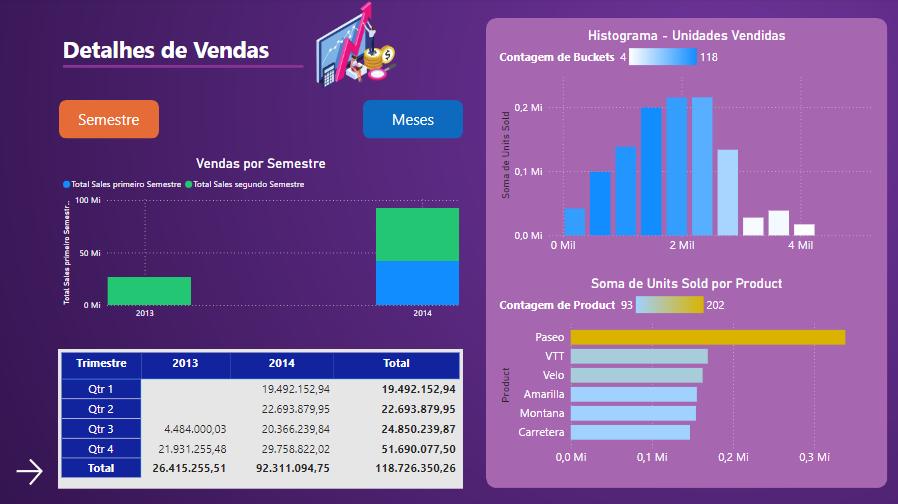

Layout of this report page (visuals, bound fields, positions):
{"tool":"powerbi","page":{"name":"Detalhes","canvas":[1280,720],"ordinal":2},"visuals":[{"type":"group","id":"g1","title":"Layout","box":[0,0,86,719.9],"z":0},{"type":"shape","box":[0,0,86,719.9],"z":0,"group":"g1"},{"type":"shape","box":[692.1,29.1,569.1,666.5],"z":0,"group":"g6"},{"type":"group","id":"g2","title":"Title report","box":[87.2,39.3,365.7,114.5],"z":0,"group":"g3"},{"type":"shape","box":[92.8,39.3,340.7,114.4],"z":0,"group":"g2"},{"type":"actionButton","box":[87.2,145.3,141.8,54.7],"z":0,"group":"g7"},{"type":"actionButton","box":[517.9,145.3,141.8,54.7],"z":0,"group":"g5"},{"type":"columnChart","title":"Vendas por Semestre","fields":{"Y":["financials.Total Sales primeiro Semestre","financials.Total Sales segundo Semestre"],"Category":["financials.Date.Variation.Hierarquia de datas.Ano"]},"box":[87.2,223.9,572.5,242.7],"z":0,"group":"g4"},{"type":"group","id":"g3","title":"Cabeçalho","box":[87.2,0,500.9,153.8],"z":500},{"type":"image","box":[430.3,0,157.8,132.7],"z":1000,"group":"g3"},{"type":"clusteredColumnChart","title":"Histograma - Unidades Vendidas","fields":{"Category":["financials.Buckets"],"Y":["Sum(financials.Units Sold)"]},"box":[706.5,41.5,540.6,330.4],"z":1000,"group":"g6"},{"type":"textbox","box":[87.2,44.7,365.8,57.2],"z":1000,"group":"g2"},{"type":"group","id":"g4","title":"Vendas","box":[87.2,145.3,572.5,321.3],"z":1000},{"type":"textbox","box":[97.5,152.1,121.3,39.3],"z":1000,"group":"g7"},{"type":"textbox","box":[528.2,152.1,121.3,39.3],"z":1000,"group":"g5"},{"type":"actionButton","title":"Botão - next","box":[19.7,647.2,66.1,48.3],"z":1000,"group":"g1"},{"type":"group","id":"g5","title":"Botão meses","box":[517.9,145.3,141.8,54.7],"z":2000,"group":"g4"},{"type":"clusteredBarChart","fields":{"Category":["financials.Product"],"Y":["Sum(financials.Units Sold)"]},"box":[706.5,393.3,540.6,278.9],"z":2000,"group":"g6"},{"type":"pivotTable","fields":{"Rows":["financials.Date.Variation.Hierarquia de datas.Trimestre"],"Columns":["financials.Date.Variation.Hierarquia de datas.Ano"],"Values":["Sum(financials. Sales)"]},"box":[85.4,497.3,574.2,198.2],"z":2000},{"type":"group","id":"g6","title":"Vendas detalhes","box":[692.1,29.1,569.1,666.5],"z":3000},{"type":"group","id":"g7","title":"Botão semestre","box":[87.2,145.3,141.8,54.7],"z":3000,"group":"g4"}]}

Visuals, with their boxes in screenshot pixels (x1, y1, x2, y2), scaled from the page's 1280x720 canvas onto the 898x504 screenshot:
"Layout" group: region(0, 0, 60, 503)
shape: region(0, 0, 60, 503)
shape: region(486, 20, 885, 487)
"Title report" group: region(61, 28, 318, 108)
shape: region(65, 28, 304, 108)
actionButton: region(61, 102, 161, 140)
actionButton: region(363, 102, 463, 140)
"Vendas por Semestre" columnChart: region(61, 157, 463, 327)
"Cabeçalho" group: region(61, 0, 413, 108)
image: region(302, 0, 413, 93)
"Histograma - Unidades Vendidas" clusteredColumnChart: region(496, 29, 875, 260)
textbox: region(61, 31, 318, 71)
"Vendas" group: region(61, 102, 463, 327)
textbox: region(68, 106, 154, 134)
textbox: region(371, 106, 456, 134)
"Botão - next" actionButton: region(14, 453, 60, 487)
"Botão meses" group: region(363, 102, 463, 140)
clusteredBarChart - financials.Product x Sum(financials.Units Sold): region(496, 275, 875, 471)
pivotTable - financials.Date.Variation.Hierarquia de datas.Trimestre x financials.Date.Variation.Hierarquia de datas.Ano: region(60, 348, 463, 487)
"Vendas detalhes" group: region(486, 20, 885, 487)
"Botão semestre" group: region(61, 102, 161, 140)
